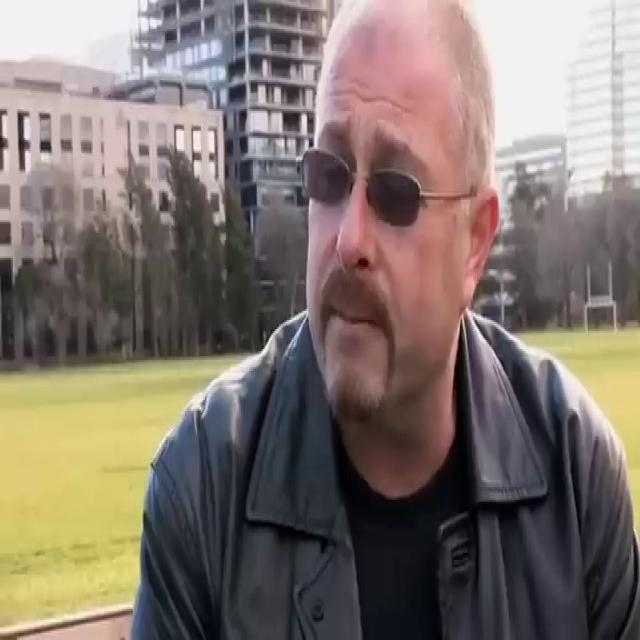others: (128, 0, 639, 636)
